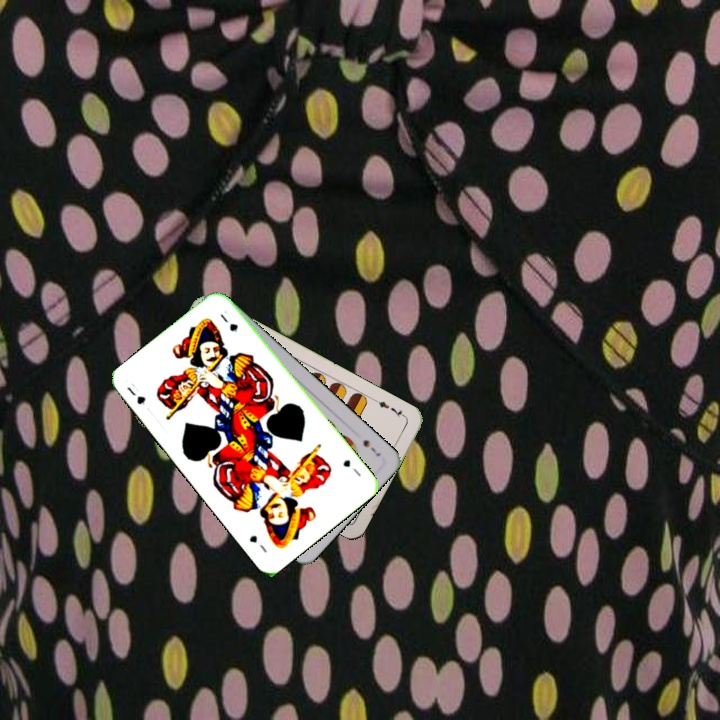E7: (371, 395, 409, 420)
GU: (123, 379, 148, 408), (339, 455, 364, 479)
S7: (359, 436, 383, 459)
